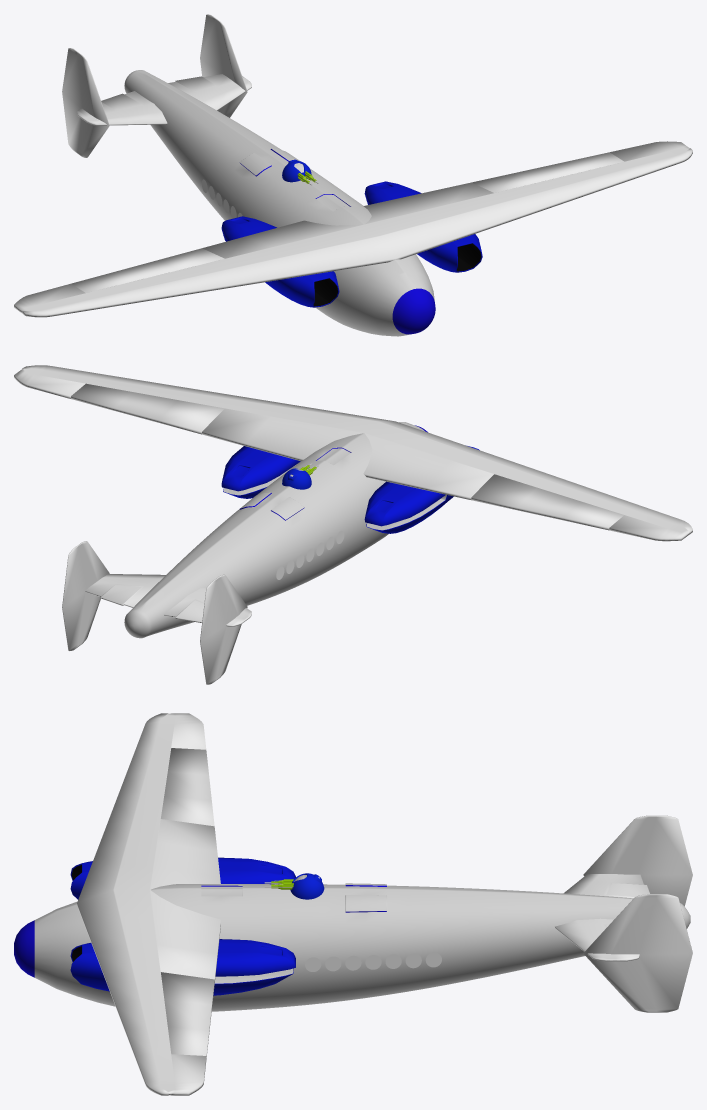
File: B17Spaceship.fbx
3 views of the same model, one above another, from view 1: azimuth 30°, elevation 25°; view 2: azimuth 150°, elevation 25°; view 3: azimuth 270°, elevation 25° (orthographic). The views are drawn at different scales.
Visible parts, largest first — view 1: Wings, Fusilage, Wings.002, Fenders, Wings.001, Flaps.R, Flaps.L; view 2: Wings, Fusilage, Wings.002, Fenders, Flaps.R, Flaps.L, Wings.001, Sphere; view 3: Fusilage, Wings, Wings.002, Fenders, Flaps.L, Flaps.R, Wings.001, Sphere.
Boxes of the visible parts, box(x1,y1,x2,y2) form: Wings: box(14, 141, 692, 317); Fusilage: box(124, 70, 435, 336); Wings.002: box(62, 14, 247, 157); Fenders: box(221, 181, 482, 307); Wings.001: box(77, 74, 251, 125); Flaps.R: box(71, 248, 224, 292); Flaps.L: box(471, 152, 623, 192); Wings: box(14, 365, 692, 541); Fusilage: box(124, 422, 427, 638); Wings.002: box(62, 541, 247, 684); Fenders: box(221, 446, 479, 533); Flaps.R: box(471, 474, 623, 530); Flaps.L: box(70, 383, 224, 434); Wings.001: box(85, 574, 251, 626); Sphere: box(282, 468, 311, 489); Fusilage: box(14, 883, 690, 1011); Wings: box(77, 713, 220, 1095); Wings.002: box(583, 815, 692, 1012); Fenders: box(70, 857, 295, 995); Flaps.L: box(161, 972, 214, 1057); Flaps.R: box(161, 748, 214, 826); Wings.001: box(555, 874, 649, 961); Sphere: box(290, 873, 324, 899).
Bounding box in the file's own units: 2224 × 415 × 1681.
